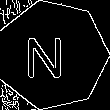N_N: (32, 30, 72, 80)
